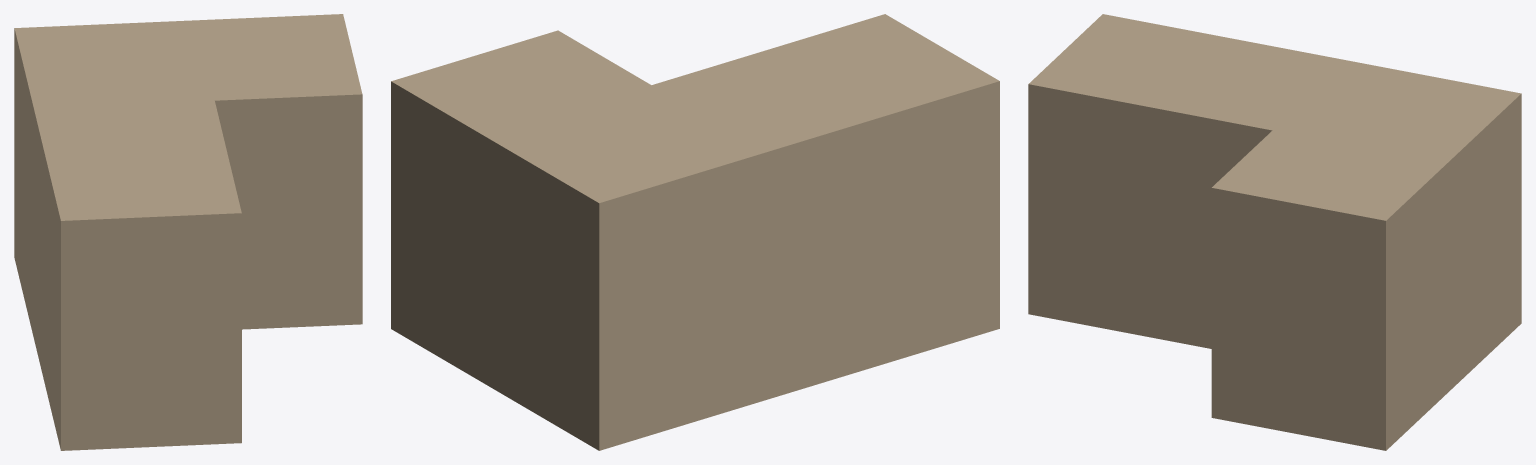
Rendered from bld_99520000.dae.
3 views of the same model, side by side, from view 1: azimuth 30°, elevation 25°; view 2: azimuth 150°, elevation 25°; view 3: azimuth 270°, elevation 25° (orthographic). The views are drawn at different scales.
Parts seen in each view (by area): view 1: bld_99520000; view 2: bld_99520000; view 3: bld_99520000.
Boxes of the visible parts, <box> form: bld_99520000: <box>14,14,362,450</box>; bld_99520000: <box>391,14,999,450</box>; bld_99520000: <box>1028,14,1521,450</box>.
Bounding box in the file's own units: 15.42 × 15.54 × 8.
